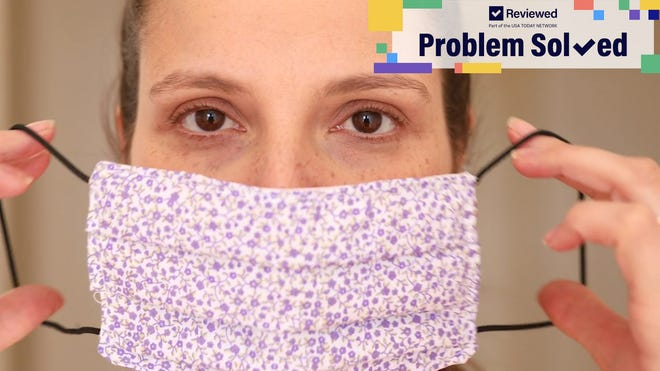with_mask: (100, 10, 467, 366)
